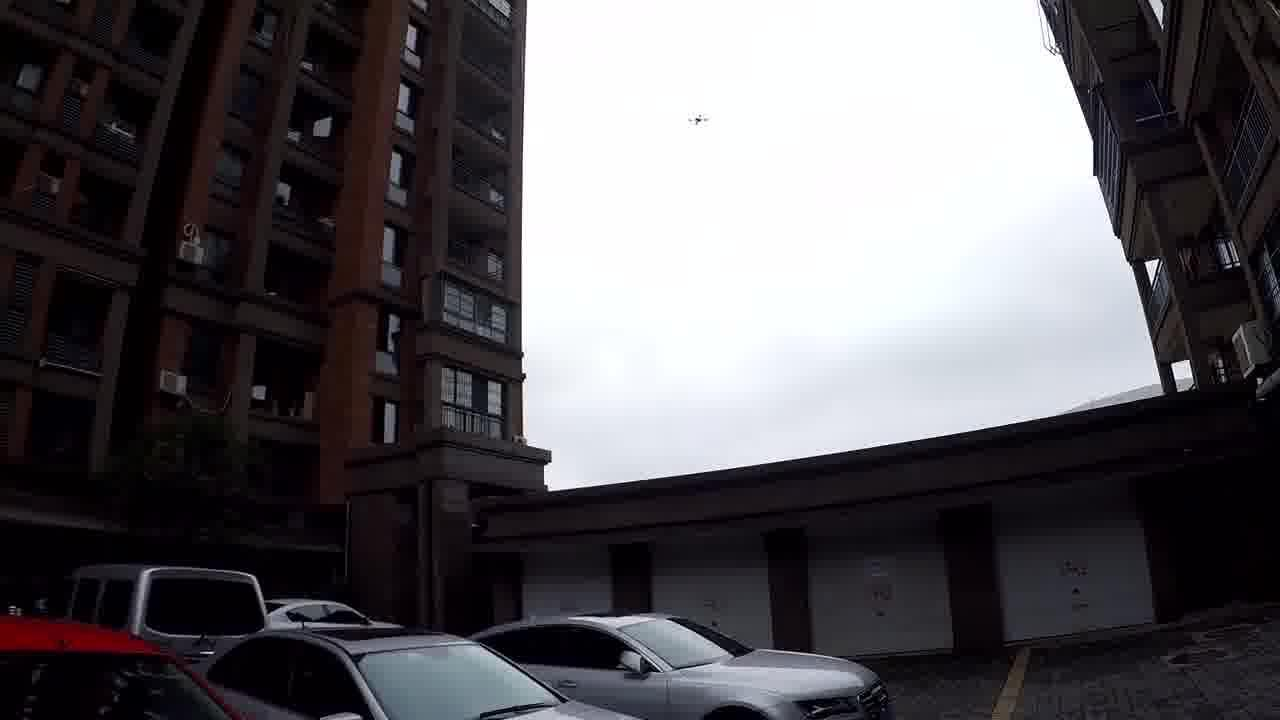drone: (669, 92, 722, 134)
